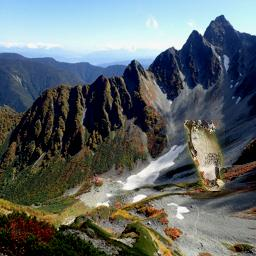Sparrow: (184, 120, 225, 191)
